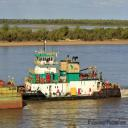tugboat: (8, 49, 123, 101)
